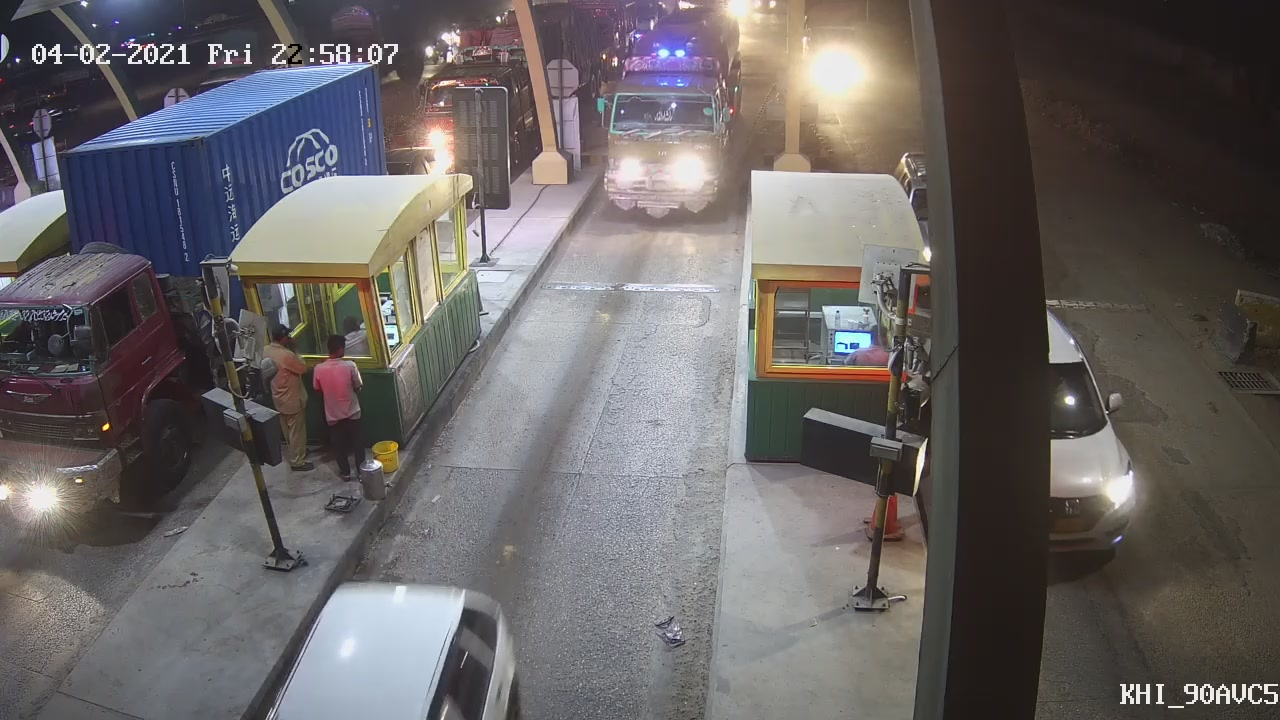F6: (596, 1, 754, 222)
